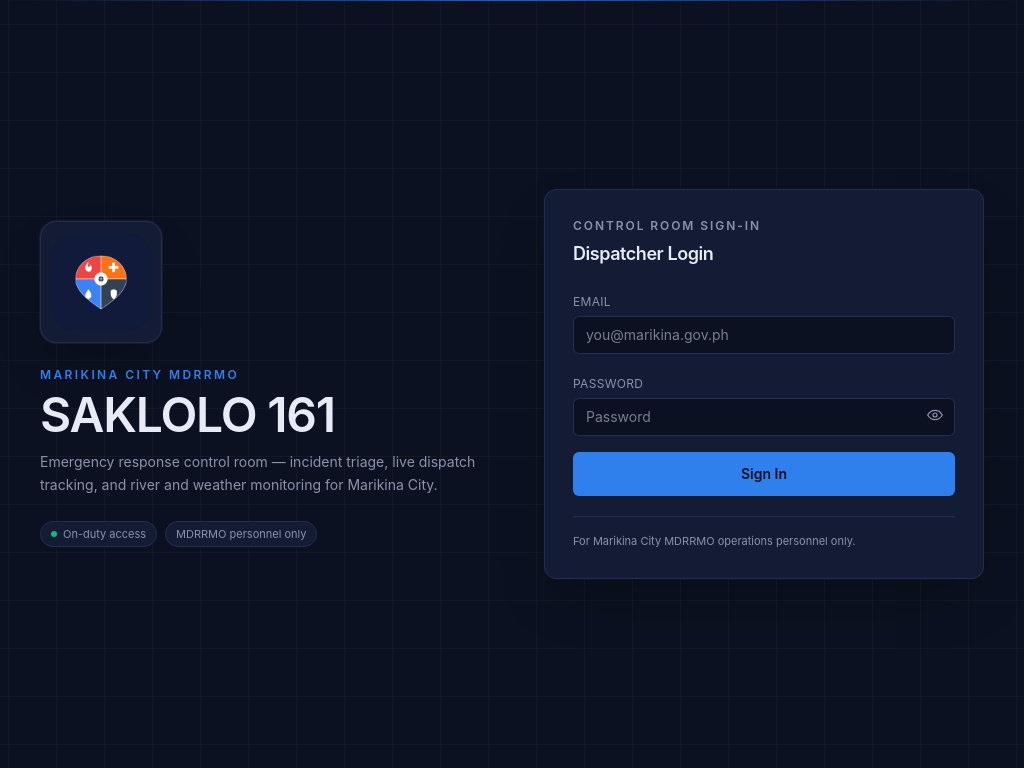
Test case: Login — password visibility toggle › starts hidden, round-trips to visible and back, and preserves the value
In the password field labelled "Password": (764, 417) 573,398 -> 955,436, type "s3cret-pass"
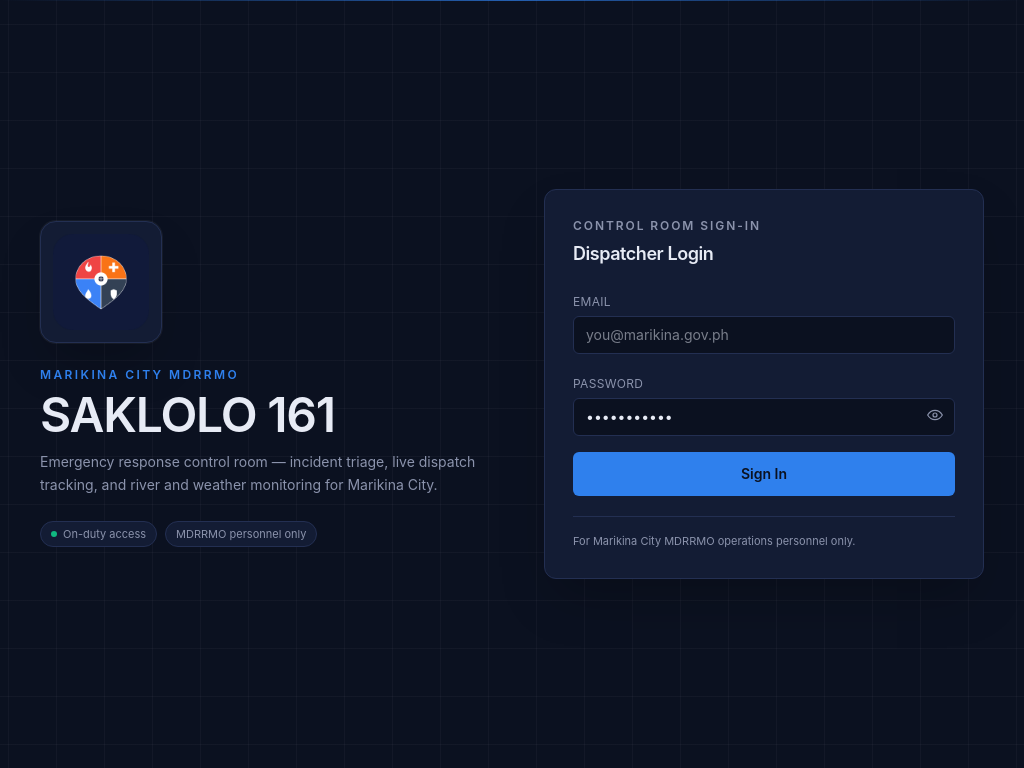
Click the button named "Show password": (935, 415) 915,394 -> 955,436
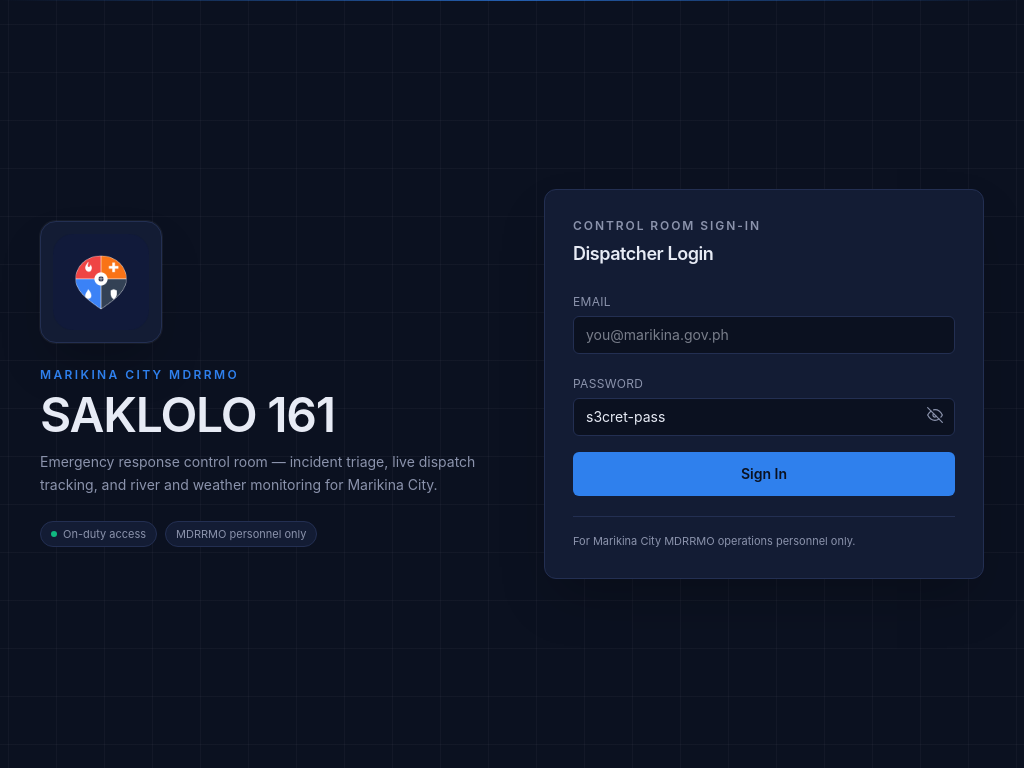
expect the button named "Hide password" is pressed: met
Click the button named "Hide password": (935, 415) 915,394 -> 955,436
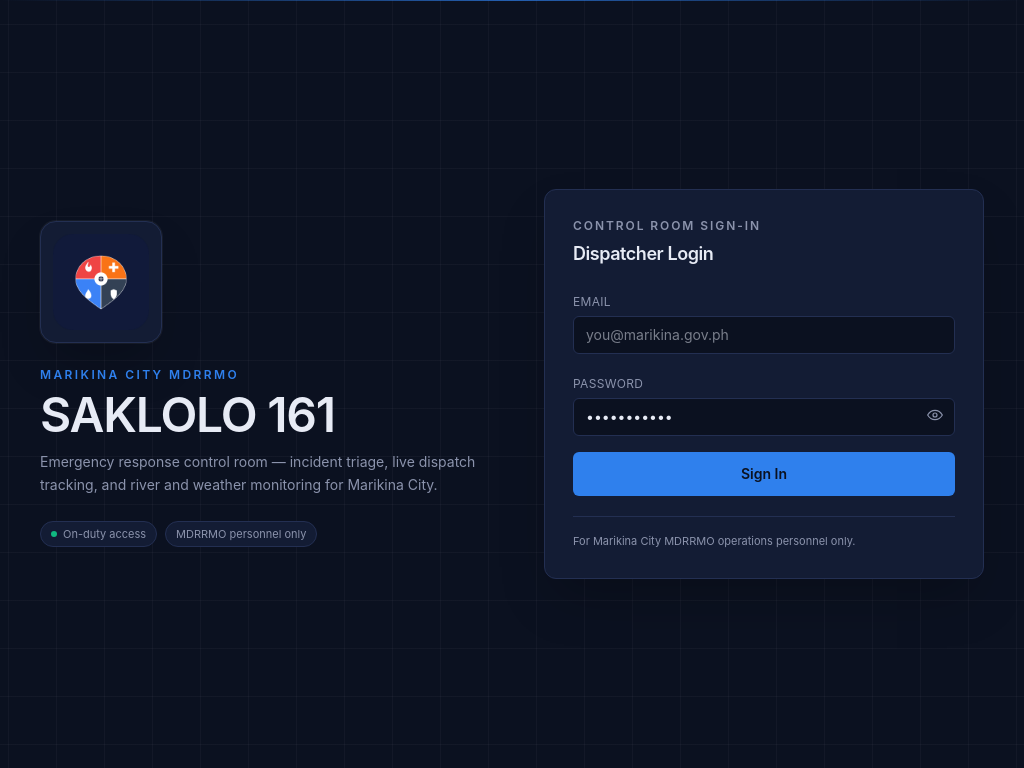
expect the button named "Show password" is shown: met, box 915,394 -> 955,436
